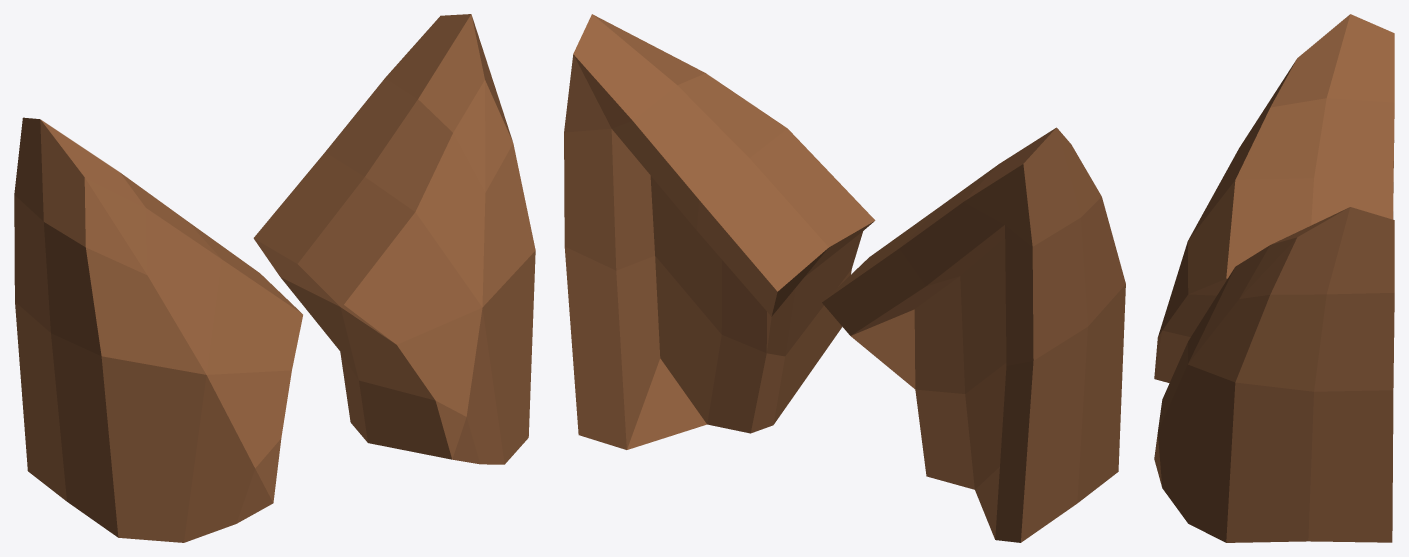
File: Catmode ears.fbx
3 renders of one model, left to right at view 1: azimuth 30°, elevation 25°; view 2: azimuth 150°, elevation 25°; view 3: azimuth 270°, elevation 25°, orthographic. The views are drawn at different scales.
Visible parts, largest first — view 1: Cat Ears; view 2: Cat Ears; view 3: Cat Ears.
Boxes of the visible parts, left/top/right/bottom form: Cat Ears: left=14, top=14, right=535, bottom=542; Cat Ears: left=564, top=14, right=1125, bottom=542; Cat Ears: left=1154, top=14, right=1394, bottom=542.
Size of the model in its own units: 124 by 62.8 by 102.
